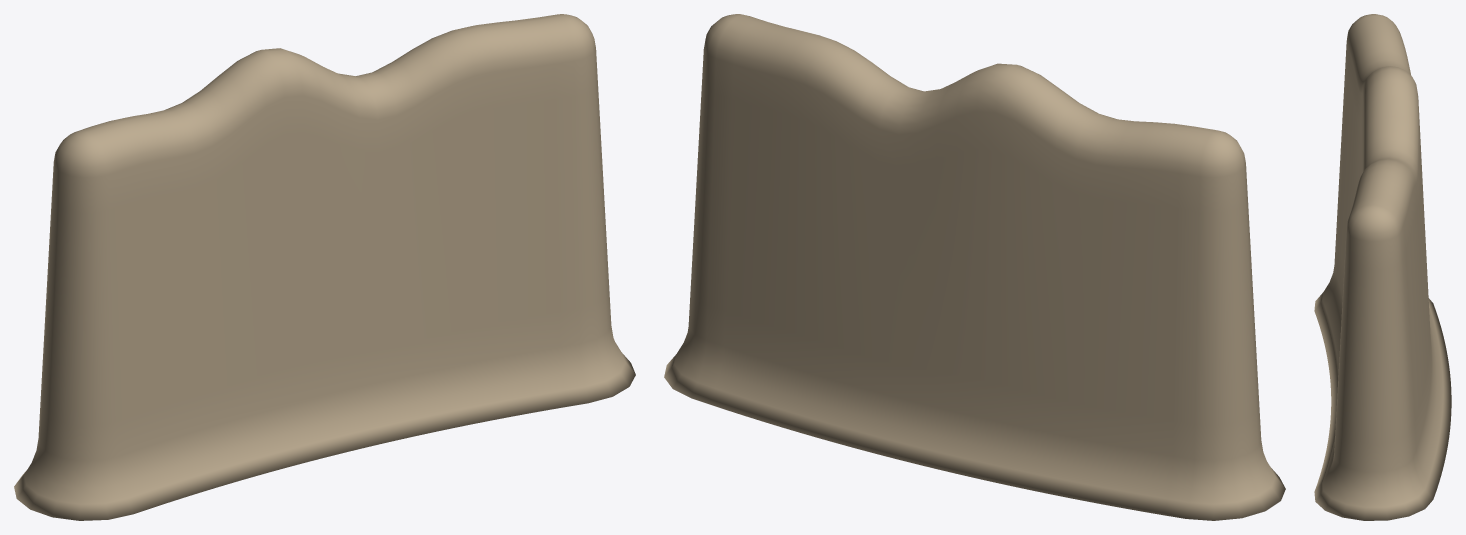
Rendered from KFB_Wall_curved_ring_r4_capAB.r3.glb.
3 views of the same model, side by side, from view 1: azimuth 30°, elevation 25°; view 2: azimuth 150°, elevation 25°; view 3: azimuth 270°, elevation 25° (orthographic). The views are drawn at different scales.
Visible parts, largest first — view 1: KFB_Wall_curved_ring_r4_capAB; view 2: KFB_Wall_curved_ring_r4_capAB; view 3: KFB_Wall_curved_ring_r4_capAB.
Part boxes in pixels (x1,y1,x2,y2): KFB_Wall_curved_ring_r4_capAB: [14, 14, 635, 520]; KFB_Wall_curved_ring_r4_capAB: [664, 14, 1285, 520]; KFB_Wall_curved_ring_r4_capAB: [1314, 14, 1451, 520].
Bounding box in the file's own units: 6.34 × 3.87 × 1.54.
